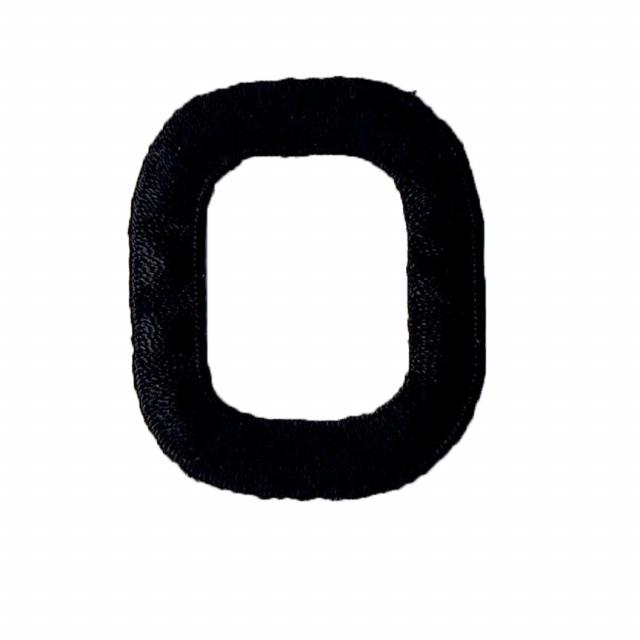O: (68, 33, 539, 534)
